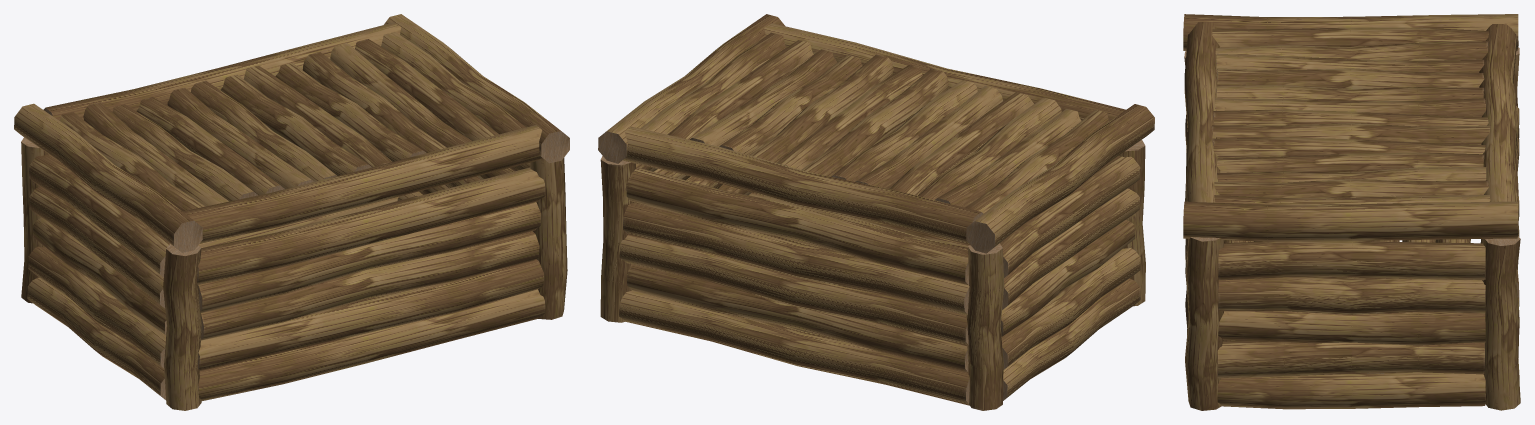
The model's file is WoodChest.fbx.
3 views of the same model, side by side, from view 1: azimuth 30°, elevation 25°; view 2: azimuth 150°, elevation 25°; view 3: azimuth 270°, elevation 25° (orthographic). The views are drawn at different scales.
Visible parts, largest first — view 1: Body, Cover; view 2: Body, Cover; view 3: Cover, Body.
Part boxes in pixels (x1,y1,x2,y2): Body: (21, 137, 567, 410); Cover: (14, 14, 569, 252); Body: (600, 140, 1145, 410); Cover: (598, 14, 1154, 253); Cover: (1183, 14, 1518, 241); Body: (1184, 47, 1520, 410).
Bounding box in the file's own units: 492 × 225 × 342.
